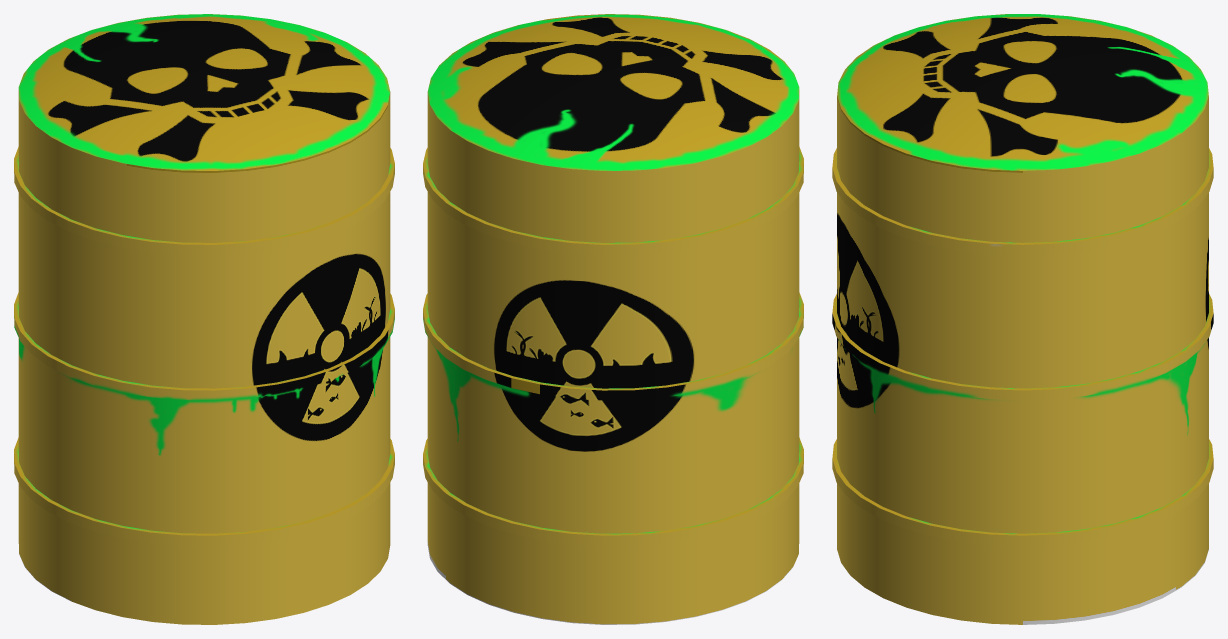
File: nuclear waste drum.FBX
3 renders of one model, left to right at view 1: azimuth 30°, elevation 25°; view 2: azimuth 150°, elevation 25°; view 3: azimuth 270°, elevation 25°, orthographic.
Visible parts, largest first — view 1: OilTank001; view 2: OilTank001; view 3: OilTank001.
Part boxes in pixels (x1=…): OilTank001: x1=14, y1=14, x2=394, y2=624; OilTank001: x1=423, y1=14, x2=803, y2=624; OilTank001: x1=832, y1=14, x2=1213, y2=624.
Size of the model in its own units: 92.81 by 134 by 92.89.
1 material, 1 textured.
